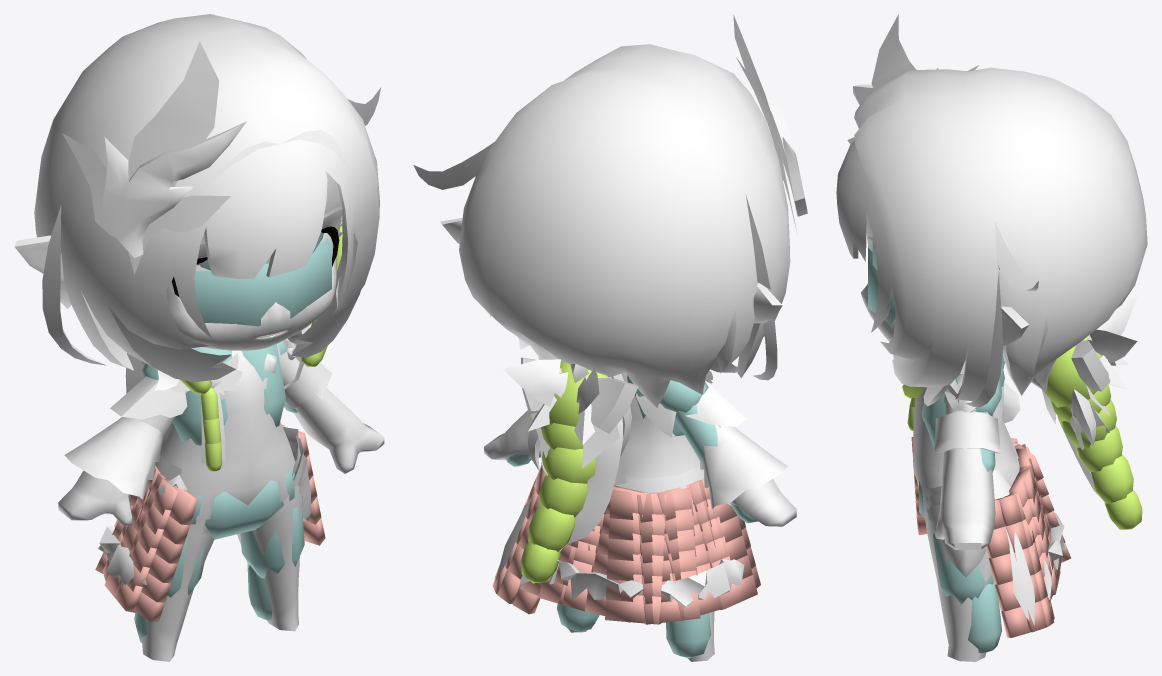
Rendered from elysia.fbx.
The picture shows the model from 3 angles, left to right: view 1: azimuth 30°, elevation 25°; view 2: azimuth 150°, elevation 25°; view 3: azimuth 270°, elevation 25°; orthographic projection. The views are drawn at different scales.
Parts seen in each view (by area): view 1: Q版爱莉希雅_mesh, 001_顔, 004_下半身, 005_左足, 00G_M-上半身2, 00F_上半身2, 00U_裙子_0_0, 007_左ひざ, 01Z_裙子_5_1, 006_右足, 01J_裙子_3_1, 01B_裙子_2_1 (+7 smaller); view 2: Q版爱莉希雅_mesh, 00L_辫子_4_1, 008_右ひざ, 00J_辫子_2_1, 00K_辫子_3_1, 00H_辫子_0_1, 00M_辫子_5_1, 00C_右腕, 022_裙子_5_4, 021_裙子_5_3, 00A_右肩, 01M_裙子_3_4 (+17 smaller); view 3: Q版爱莉希雅_mesh, 007_左ひざ, 005_左足, 00H_辫子_0_1, 00L_辫子_4_1, 00K_辫子_3_1, 00M_辫子_5_1, 00J_辫子_2_1, 001_顔, 00G_M-上半身2, 02P_裙饰_4_3, 00I_辫子_1_1 (+5 smaller).
Part boxes in pixels (bbox=[...]): Q版爱莉希雅_mesh: bbox=[14, 14, 384, 661]; 001_顔: bbox=[194, 237, 331, 337]; 004_下半身: bbox=[191, 468, 294, 539]; 005_左足: bbox=[240, 507, 304, 578]; 00G_M-上半身2: bbox=[241, 344, 285, 426]; 00F_上半身2: bbox=[172, 347, 232, 445]; 00U_裙子_0_0: bbox=[151, 474, 198, 525]; 007_左ひざ: bbox=[247, 564, 272, 620]; 01Z_裙子_5_1: bbox=[104, 573, 142, 612]; 006_右足: bbox=[167, 537, 204, 597]; 01J_裙子_3_1: bbox=[121, 525, 156, 572]; 01B_裙子_2_1: bbox=[132, 503, 163, 553]; Q版爱莉希雅_mesh: bbox=[413, 14, 807, 661]; 00L_辫子_4_1: bbox=[528, 504, 575, 551]; 008_右ひざ: bbox=[666, 613, 710, 658]; 00J_辫子_2_1: bbox=[541, 447, 596, 483]; 00K_辫子_3_1: bbox=[539, 475, 587, 517]; 00H_辫子_0_1: bbox=[549, 361, 611, 426]; 00M_辫子_5_1: bbox=[520, 541, 560, 583]; 00C_右腕: bbox=[675, 405, 720, 463]; 022_裙子_5_4: bbox=[605, 595, 661, 624]; 021_裙子_5_3: bbox=[643, 592, 700, 624]; 00A_右肩: bbox=[660, 380, 708, 414]; 01M_裙子_3_4: bbox=[606, 554, 663, 580]; Q版爱莉希雅_mesh: bbox=[836, 14, 1147, 661]; 007_左ひざ: bbox=[968, 583, 1002, 653]; 005_左足: bbox=[933, 533, 993, 604]; 00H_辫子_0_1: bbox=[1043, 336, 1102, 407]; 00L_辫子_4_1: bbox=[1091, 454, 1133, 503]; 00K_辫子_3_1: bbox=[1076, 425, 1122, 471]; 00M_辫子_5_1: bbox=[1104, 490, 1142, 529]; 00J_辫子_2_1: bbox=[1059, 399, 1116, 448]; 001_顔: bbox=[868, 246, 895, 324]; 00G_M-上半身2: bbox=[921, 360, 1004, 446]; 02P_裙饰_4_3: bbox=[1001, 607, 1029, 637]; 00I_辫子_1_1: bbox=[1049, 384, 1111, 421].
Size of the model in its own units: 751 by 1222 by 586.
